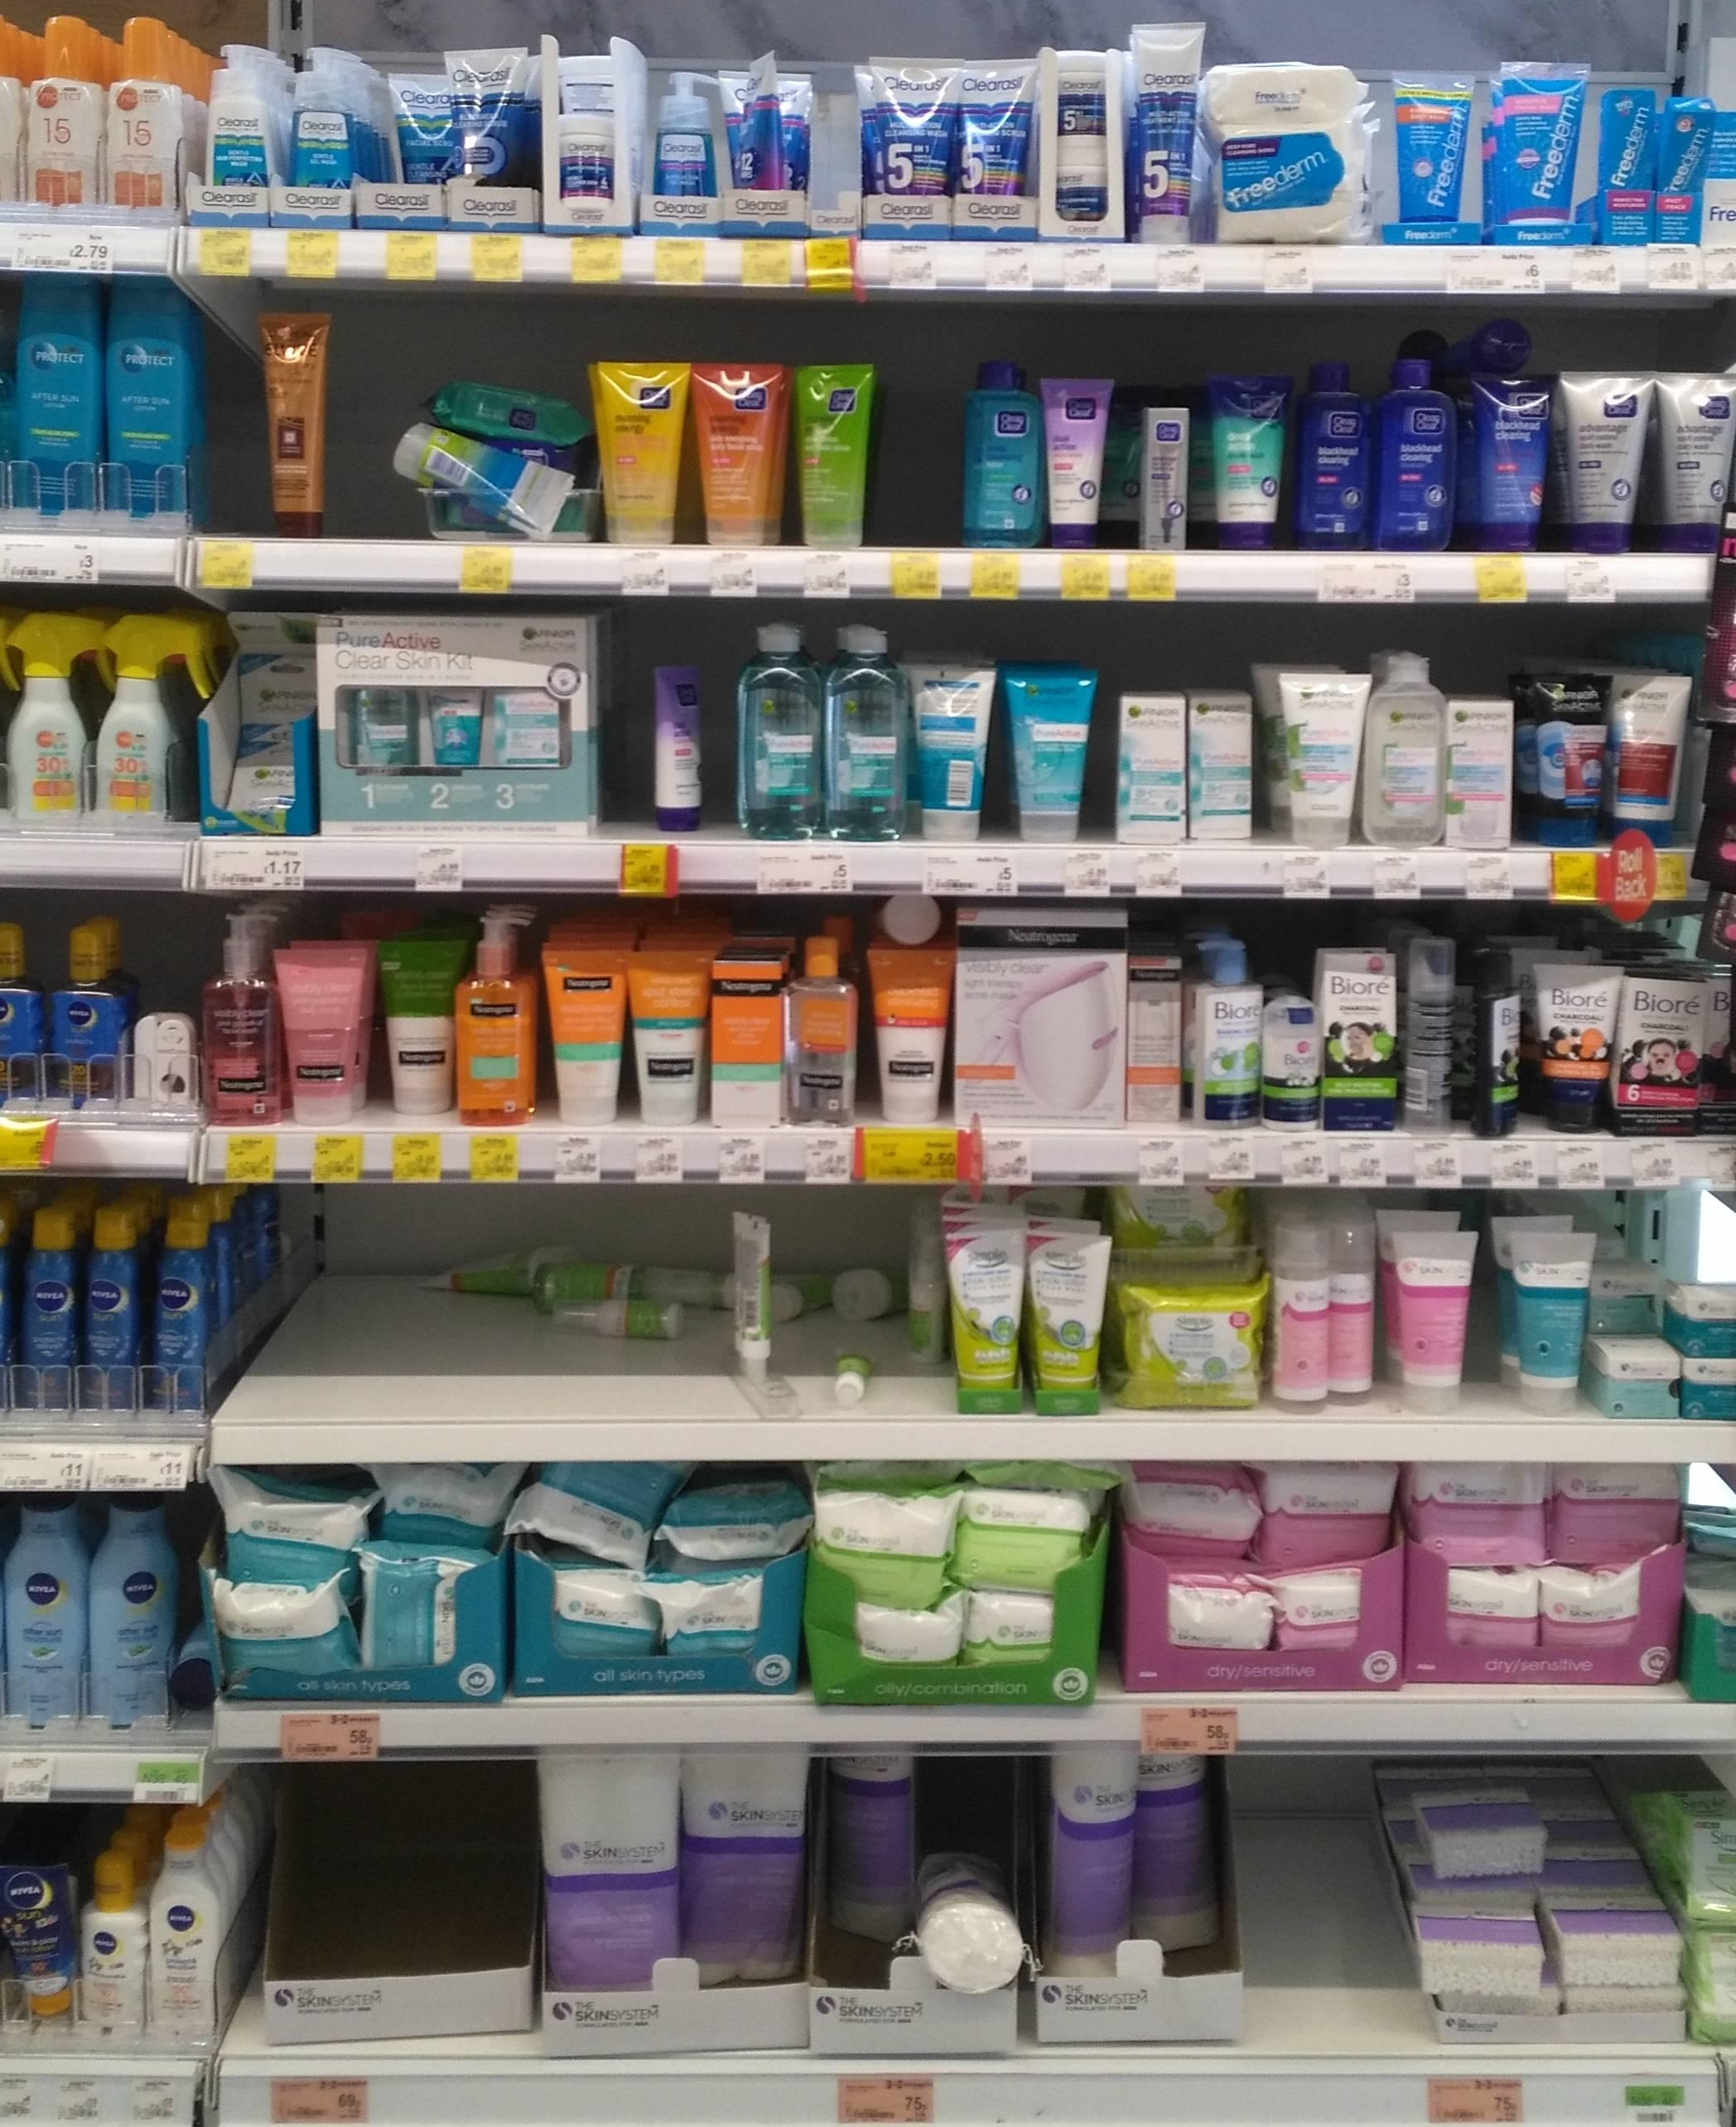empty: (1240, 1779, 1397, 2014), (309, 1790, 523, 1961), (265, 1196, 419, 1396), (888, 339, 957, 542)
misalignment: (445, 1249, 908, 1351), (378, 396, 585, 544), (920, 1818, 1026, 2000)
